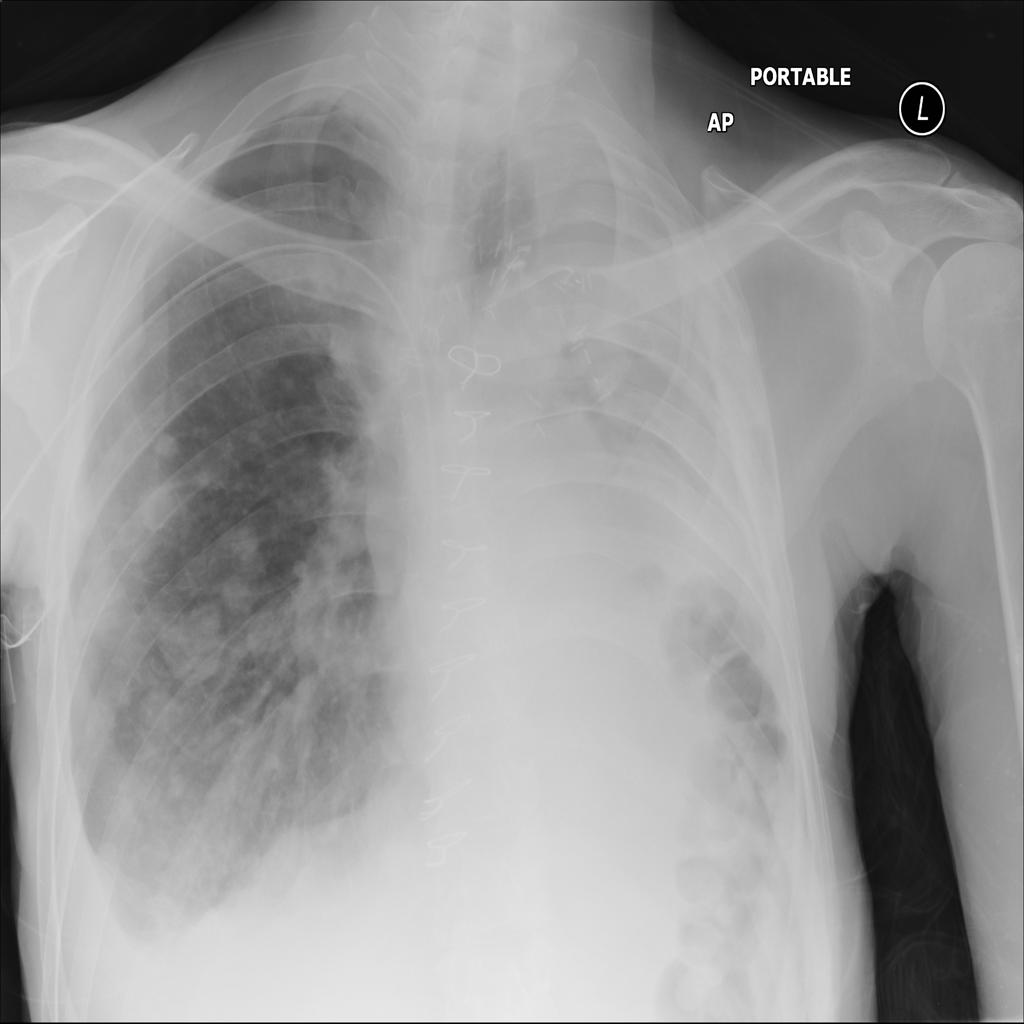nodule: (157, 594, 232, 688), (122, 671, 193, 749), (120, 467, 189, 545), (208, 514, 273, 595), (202, 559, 269, 634), (185, 451, 237, 502), (141, 419, 192, 469)
